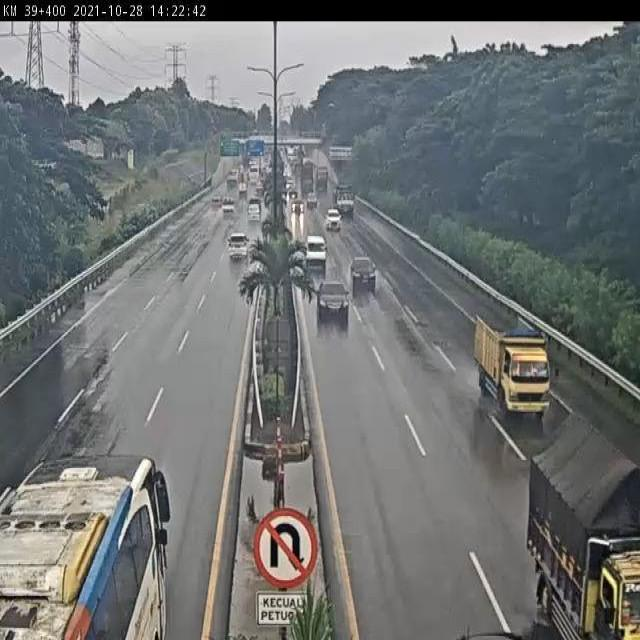big bus: (0, 446, 167, 640)
car: (315, 278, 349, 318), (350, 256, 377, 289), (305, 236, 326, 267), (226, 232, 249, 260), (325, 207, 342, 230), (245, 204, 262, 224)
truck-s-: (531, 414, 640, 640), (473, 307, 551, 421)
